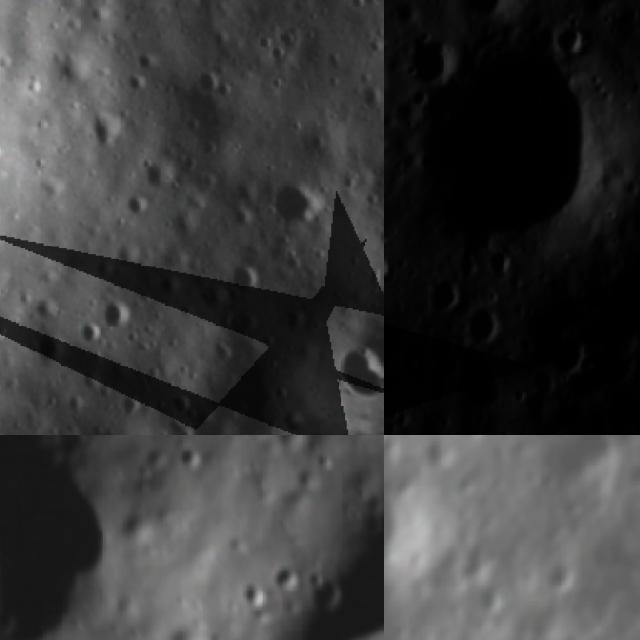crater: (391, 23, 624, 254), (0, 435, 138, 640), (288, 479, 384, 640), (575, 471, 640, 640), (384, 435, 442, 595), (258, 165, 331, 236), (396, 28, 460, 92), (14, 314, 75, 376), (533, 329, 595, 387), (76, 96, 133, 152), (325, 330, 384, 384), (301, 571, 359, 619), (89, 284, 141, 337), (457, 290, 505, 346), (458, 355, 509, 407), (420, 272, 470, 322), (135, 149, 184, 198), (540, 551, 583, 602), (549, 11, 595, 56), (223, 253, 267, 300), (624, 0, 640, 127), (269, 550, 310, 596), (450, 0, 527, 23), (115, 182, 155, 222), (349, 72, 384, 117), (124, 509, 166, 546), (70, 310, 109, 348), (478, 243, 521, 277), (188, 59, 225, 96), (260, 36, 298, 72), (364, 197, 384, 264), (162, 382, 197, 420), (271, 16, 307, 51), (242, 577, 277, 612), (180, 438, 211, 474), (145, 440, 177, 473), (316, 452, 338, 474)
